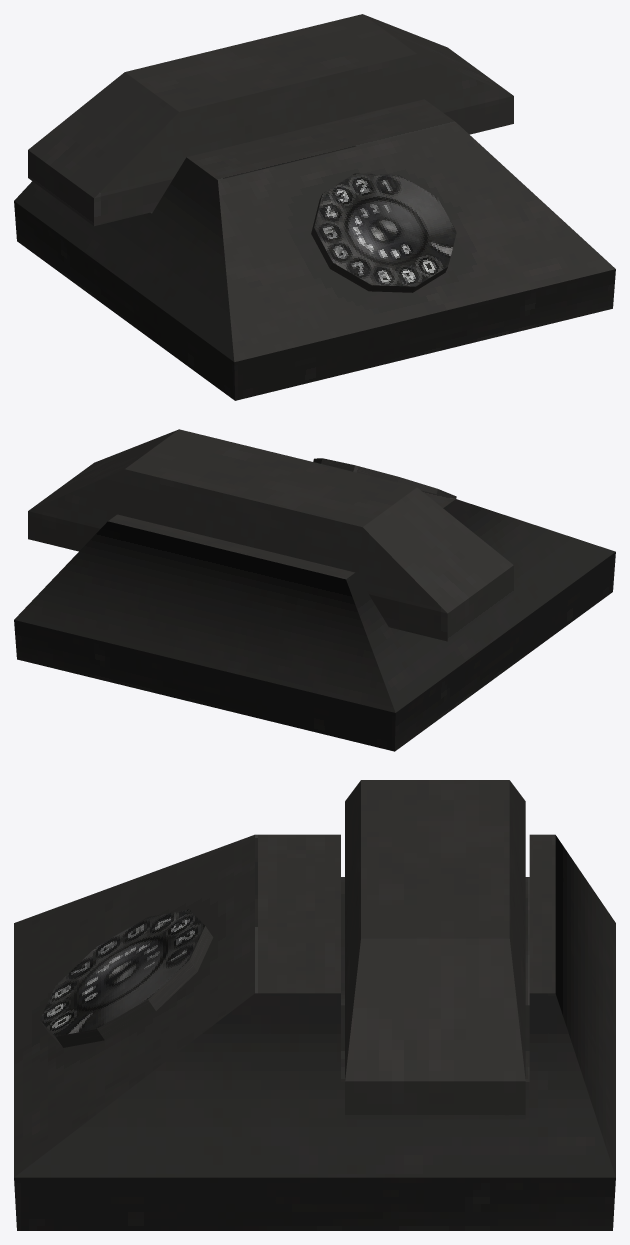
File: telephone.glb
3 views of the same model, one above another, from view 1: azimuth 30°, elevation 25°; view 2: azimuth 150°, elevation 25°; view 3: azimuth 270°, elevation 25° (orthographic). The views are drawn at different scales.
Visible parts, largest first — view 1: Cube.002, Cube.001, Cylinder; view 2: Cube.002, Cube.001, Cylinder; view 3: Cube.002, Cube.001, Cylinder.
Part boxes in pixels (box(x1,y1,x2,y2)): Cube.002: box(14, 99, 615, 400); Cube.001: box(28, 14, 513, 226); Cylinder: box(311, 173, 456, 292); Cube.002: box(14, 490, 615, 751); Cube.001: box(28, 429, 513, 641); Cylinder: box(313, 458, 456, 498); Cube.002: box(14, 834, 615, 1230); Cube.001: box(345, 780, 525, 1119); Cylinder: box(40, 909, 213, 1047).
Bounding box in the file's own units: 0.22 × 0.09 × 0.2.
Materials: 3 (3 with a texture image).
